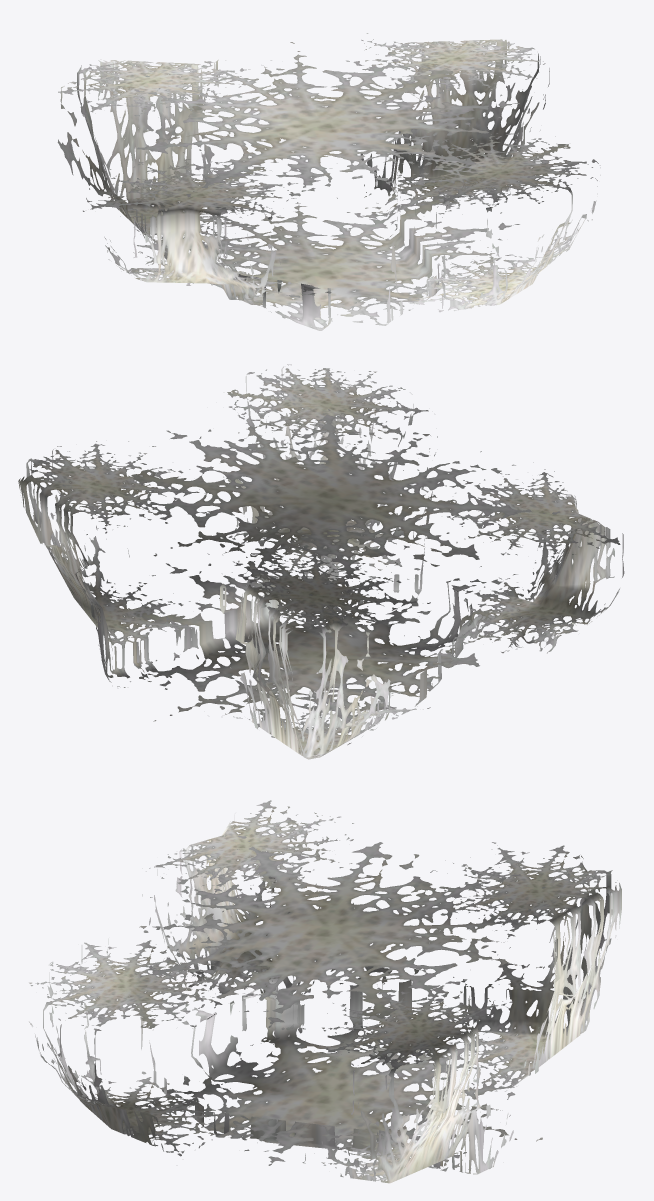
File: venom_fusion_rodeoweb.glb
The picture shows the model from 3 angles, top to bottom: view 1: azimuth 30°, elevation 25°; view 2: azimuth 150°, elevation 25°; view 3: azimuth 270°, elevation 25°; orthographic projection. The views are drawn at different scales.
Visible parts, largest first — view 1: venom_fusion_rodeoweb_0; view 2: venom_fusion_rodeoweb_0; view 3: venom_fusion_rodeoweb_0.
Part boxes in pixels (x1,y1,x2,y2): venom_fusion_rodeoweb_0: [57, 33, 600, 330]; venom_fusion_rodeoweb_0: [18, 364, 624, 759]; venom_fusion_rodeoweb_0: [29, 800, 621, 1183].
Bounding box in the file's own units: 101 × 29.55 × 93.32.
1 material, 1 textured.
